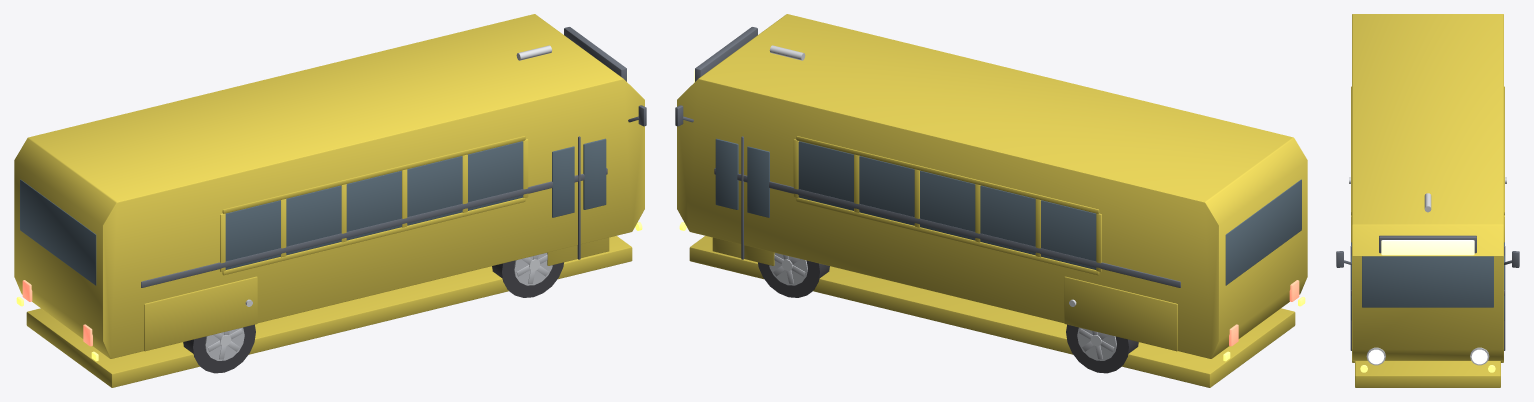
File: th40_postauto.glb
The picture shows the model from 3 angles, left to right: view 1: azimuth 30°, elevation 25°; view 2: azimuth 150°, elevation 25°; view 3: azimuth 270°, elevation 25°; orthographic projection. The views are drawn at different scales.
Visible parts, largest first — view 1: Postkasten, Cube.001, Cube, Cube.031, Cube.030, Cube.093, Cube.008, Cube.009, Cube.022, Cube.020, Cylinder.023, Cylinder.011 (+3 smaller); view 2: Postkasten, Cube.010, Cube, Cube.033, Cube.030, Cube.093, Cube.017, Cube.018, Cube.027, Cube.025, Cylinder.029, Cylinder.017 (+3 smaller); view 3: Postkasten, Cube.029, Cube, Cube.035, Cube.036, Cylinder.005, Cylinder.008.
Boxes of the visible parts, box(x1,y1,x2,y2) form: Postkasten: box(14, 14, 644, 358); Cube.001: box(225, 141, 523, 269); Cube: box(26, 236, 632, 387); Cube.031: box(144, 276, 257, 351); Cube.030: box(20, 179, 96, 285); Cube.093: box(141, 168, 607, 287); Cube.008: box(222, 136, 525, 213); Cube.009: box(222, 198, 525, 275); Cube.022: box(583, 138, 606, 209); Cube.020: box(552, 146, 574, 217); Cylinder.023: box(183, 324, 255, 373); Cylinder.011: box(492, 260, 563, 297); Postkasten: box(677, 14, 1307, 358); Cube.010: box(798, 141, 1096, 269); Cube: box(689, 236, 1295, 387); Cube.033: box(1064, 276, 1177, 351); Cube.030: box(1225, 179, 1301, 285); Cube.093: box(714, 168, 1180, 287); Cube.017: box(796, 136, 1099, 213); Cube.018: box(796, 198, 1099, 275); Cube.027: box(715, 138, 738, 209); Cube.025: box(747, 146, 769, 217); Cylinder.029: box(1066, 324, 1138, 373); Cylinder.017: box(758, 260, 829, 297); Postkasten: box(1352, 14, 1503, 360); Cube.029: box(1362, 256, 1493, 307); Cube: box(1355, 361, 1500, 387); Cube.035: box(1381, 240, 1474, 255); Cube.036: box(1379, 235, 1476, 253); Cylinder.005: box(1368, 349, 1384, 364); Cylinder.008: box(1471, 349, 1487, 364).
Size of the model in its own units: 8.67 by 3.11 by 2.95.
